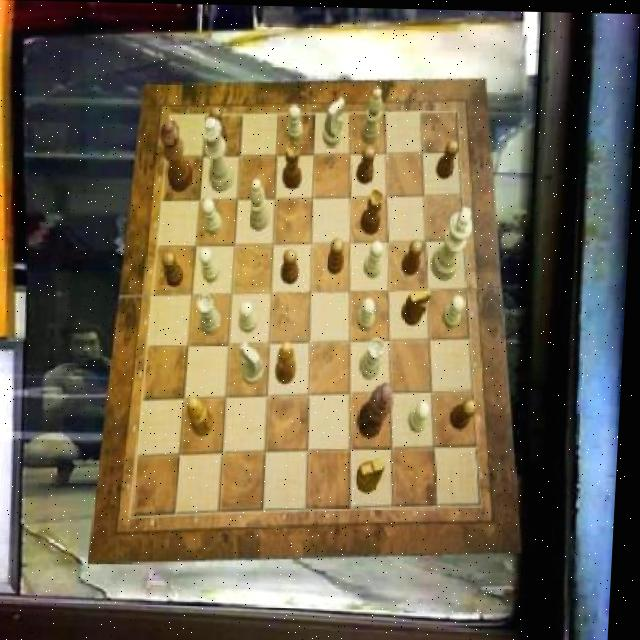bishop: (190, 396, 219, 437), (278, 340, 301, 383)
black-bishop: (361, 381, 399, 437)
black-king: (360, 456, 391, 493), (406, 284, 435, 323)
black-knight: (453, 396, 482, 429), (438, 139, 462, 177), (164, 251, 188, 286), (405, 237, 427, 273), (210, 107, 230, 146), (358, 143, 377, 182), (329, 235, 348, 273), (284, 247, 303, 283)
black-pawn: (160, 120, 198, 193)
black-queen: (363, 186, 387, 233), (285, 140, 306, 188)
black-rook: (362, 85, 384, 143), (251, 178, 274, 231)
white-bishop: (434, 203, 477, 278)
white-king: (243, 340, 270, 383), (325, 95, 347, 146)
white-knight: (201, 247, 225, 283), (445, 293, 469, 328), (205, 196, 226, 234), (413, 398, 436, 431), (368, 237, 387, 276), (288, 104, 306, 142), (242, 301, 262, 334), (361, 296, 379, 330)
white-pawn: (200, 116, 239, 191)
white-queen: (199, 293, 227, 335), (363, 336, 388, 379)
